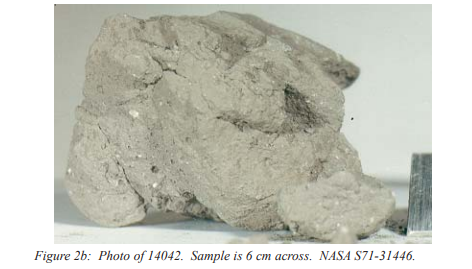Breccia: (65, 0, 411, 235)
